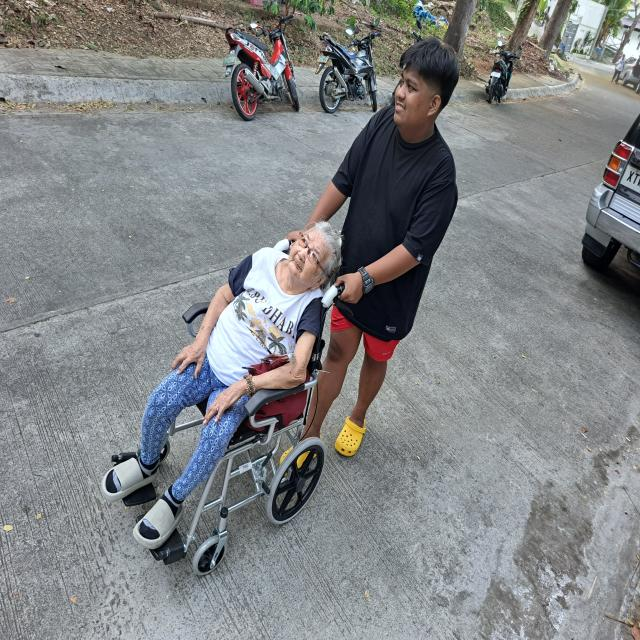wheelchairs: (106, 260, 333, 595)
